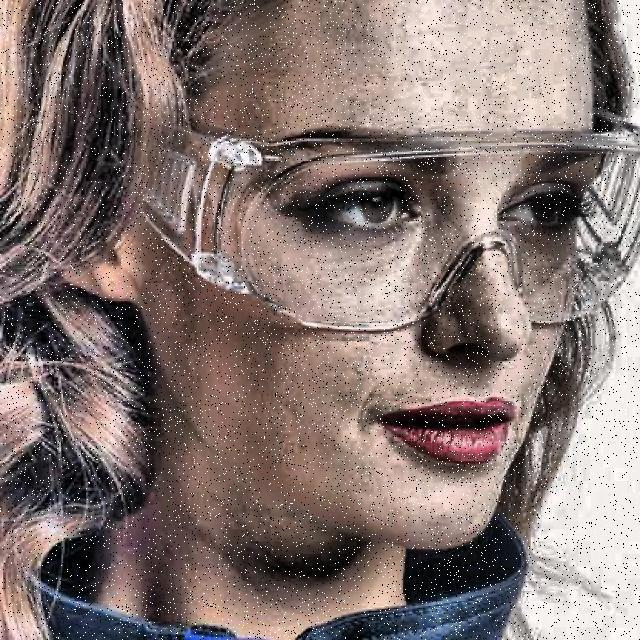Goggles: (117, 97, 640, 343)
